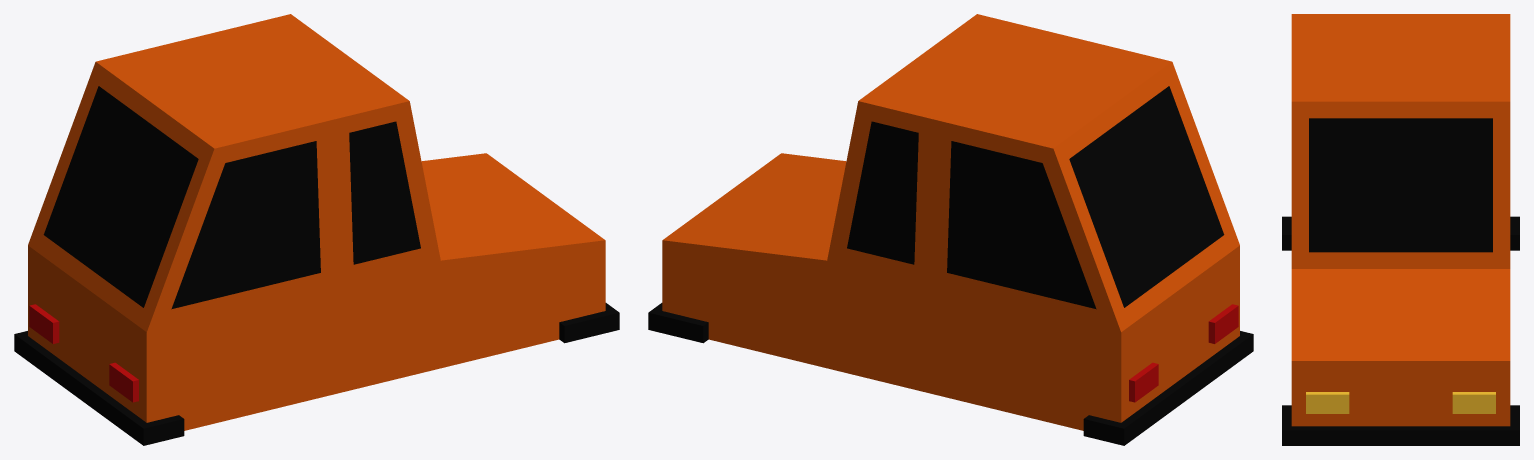
File: CityCar_Kombi_02.fbx
The picture shows the model from 3 angles, left to right: view 1: azimuth 30°, elevation 25°; view 2: azimuth 150°, elevation 25°; view 3: azimuth 270°, elevation 25°; orthographic projection. The views are drawn at different scales.
Parts seen in each view (by area): view 1: CityCar_Kombi_02; view 2: CityCar_Kombi_02; view 3: CityCar_Kombi_02.
Boxes of the visible parts, x1,y1,x2,y2 form: CityCar_Kombi_02: [14, 14, 619, 445]; CityCar_Kombi_02: [648, 14, 1253, 445]; CityCar_Kombi_02: [1282, 14, 1519, 445].
Bounding box in the file's own units: 0.4902 × 0.2706 × 0.2307.
